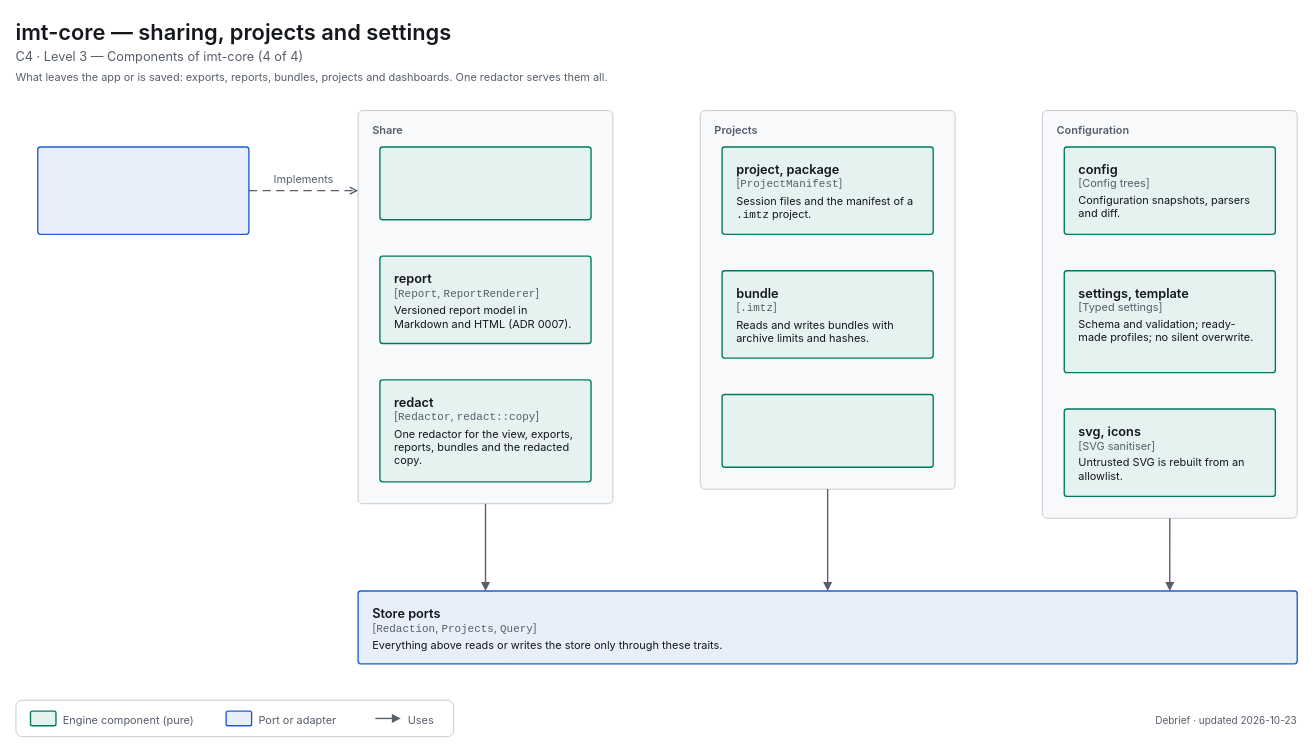
The diagram is 1314 pixels wide and 753 high, and some of its shapes have lost their labels. The shapes that lost their labels are listed below. From the top down, each one's centre as x and y in pixels, then its label:
At (143,190): "imt-pdf [Rust library, adapter] PDF reports behind the ReportRenderer port.".
At (485,183): "export [CSV · CLEF · JSON] Exports of the filtered events.".
At (827,430): "dashboard, tiles [ DashboardCfg ] Per-profile tile grids.".
